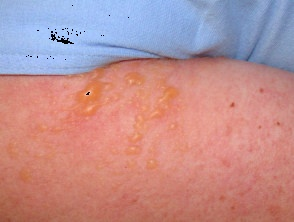SJS-TEN: (0, 37, 249, 222)
